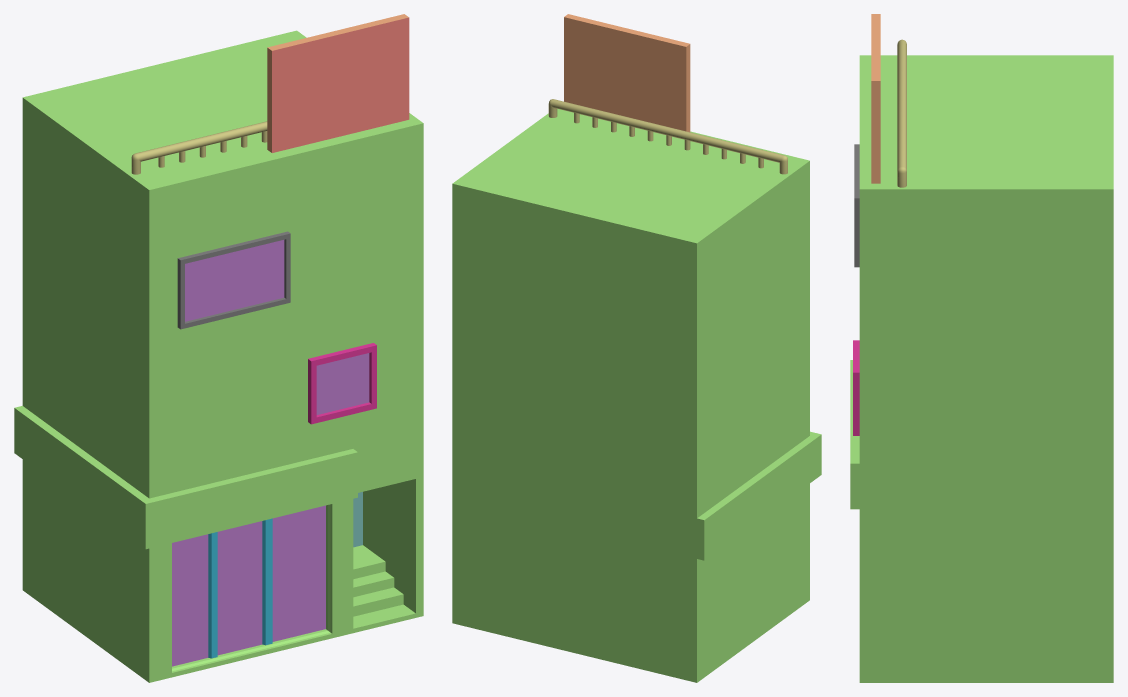
File: building1.fbx
3 renders of one model, left to right at view 1: azimuth 30°, elevation 25°; view 2: azimuth 150°, elevation 25°; view 3: azimuth 270°, elevation 25°, orthographic. The views are drawn at different scales.
Parts seen in each view (by area): view 1: building, Door, Adbox, window2, window1, handrail; view 2: building, Adbox, handrail; view 3: building, Adbox, handrail, window2, window1.
Boxes of the visible parts, x1=… form: building: x1=14, y1=30, x2=423, y2=682; Door: x1=172, y1=505, x2=325, y2=666; Adbox: x1=267, y1=14, x2=409, y2=152; window2: x1=177, y1=231, x2=290, y2=329; window1: x1=308, y1=343, x2=376, y2=424; handrail: x1=131, y1=121, x2=267, y2=174; building: x1=452, y1=108, x2=821, y2=682; Adbox: x1=564, y1=14, x2=690, y2=132; handrail: x1=548, y1=99, x2=787, y2=174; building: x1=850, y1=55, x2=1113, y2=682; Adbox: x1=871, y1=14, x2=880, y2=183; handrail: x1=897, y1=39, x2=906, y2=187; window2: x1=854, y1=144, x2=859, y2=267; window1: x1=853, y1=340, x2=859, y2=435.
Bounding box in the file's own units: 459 × 927 × 370.
